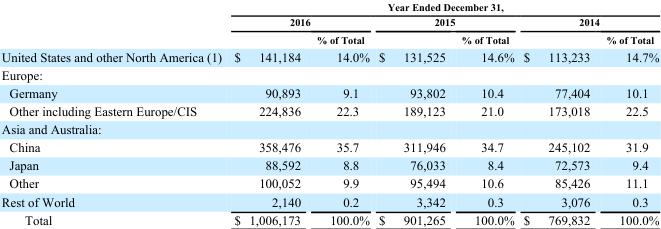table: (0, 0, 658, 226)
table column: (0, 0, 227, 226), (227, 0, 308, 226), (373, 0, 452, 226), (518, 0, 597, 226), (452, 0, 518, 226), (308, 0, 373, 226), (597, 0, 658, 226)
table column header: (0, 0, 658, 65)
table projected row header: (0, 65, 658, 83), (0, 119, 658, 137)
table row: (0, 30, 658, 65), (0, 155, 658, 174), (0, 65, 658, 83), (0, 83, 658, 101), (0, 101, 658, 119), (0, 119, 658, 137), (0, 137, 658, 155), (0, 174, 658, 192), (0, 192, 658, 210), (0, 14, 658, 30), (0, 210, 658, 226), (0, 0, 658, 14)
table spanning cell: (0, 0, 227, 65), (227, 0, 658, 14), (227, 14, 373, 30), (373, 14, 518, 30), (518, 14, 658, 30)
